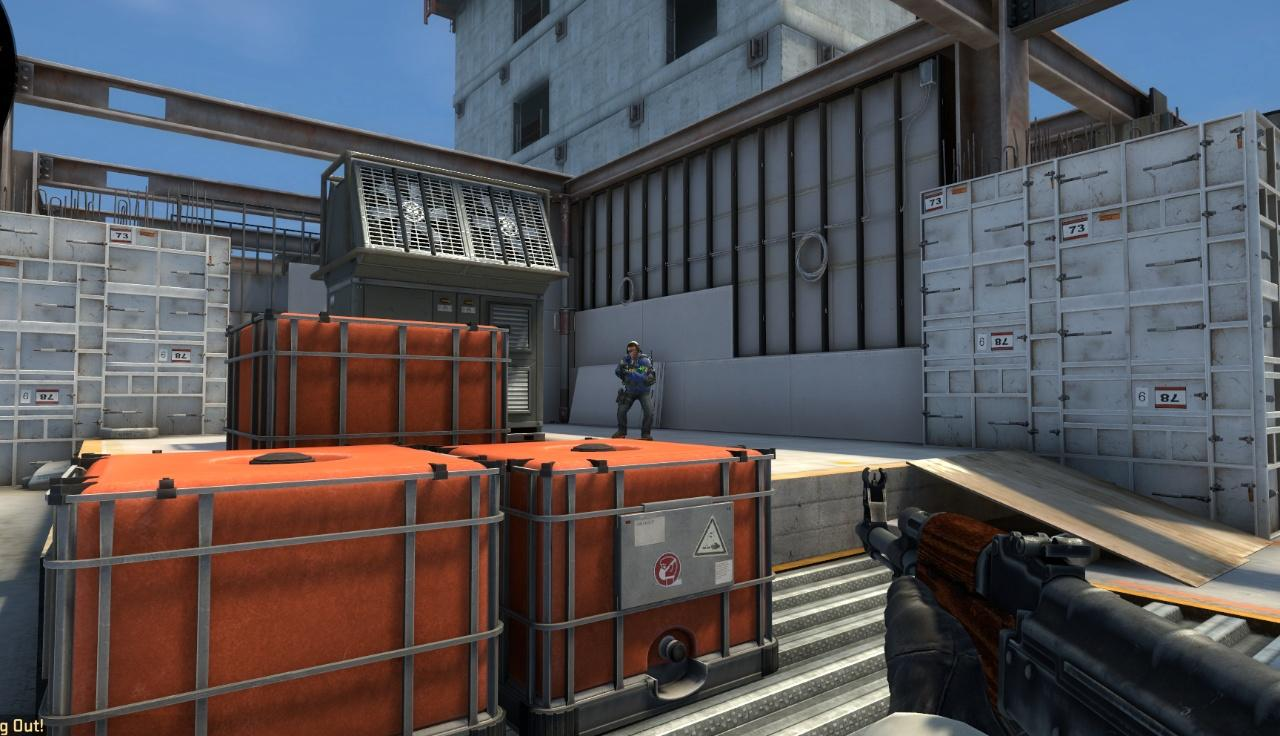ct: (615, 342, 654, 435)
cthead: (627, 343, 639, 358)
rifle: (850, 458, 1280, 736)
